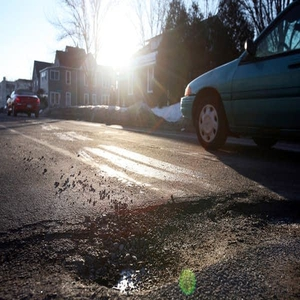pothole: (74, 206, 199, 300)
